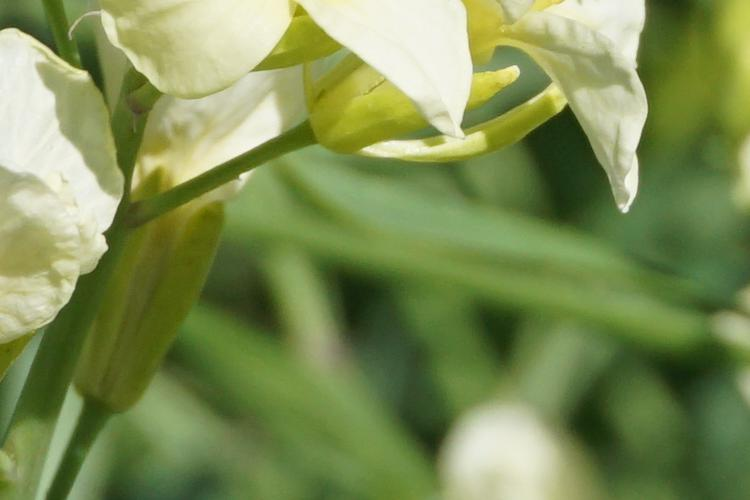white: (100, 5, 474, 108), (4, 29, 115, 331), (499, 8, 656, 208)
